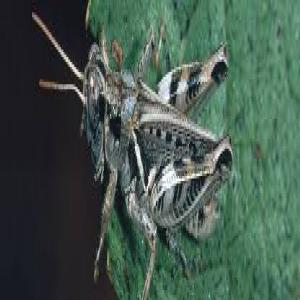locust: (47, 23, 238, 249)
